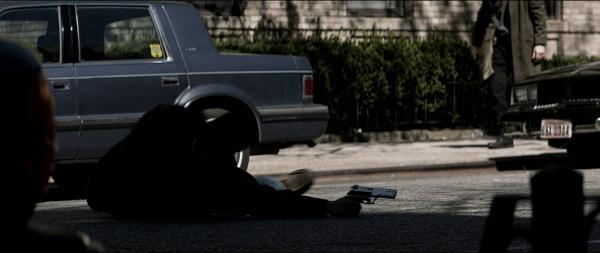Gun: (348, 184, 397, 205)
